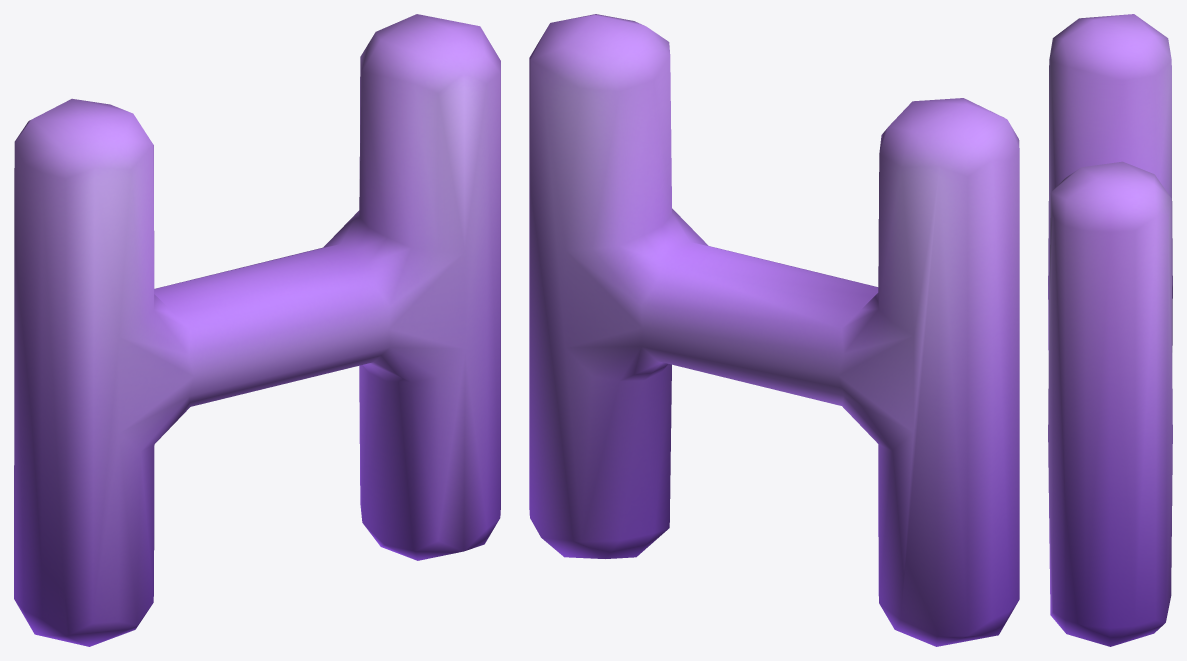
3 renders of one model, left to right at view 1: azimuth 30°, elevation 25°; view 2: azimuth 150°, elevation 25°; view 3: azimuth 270°, elevation 25°, orthographic. The views are drawn at different scales.
Parts seen in each view (by area): view 1: Processed_Mesh0_Geometry; view 2: Processed_Mesh0_Geometry; view 3: Processed_Mesh0_Geometry.
Boxes of the visible parts, x1,y1,x2,y2 form: Processed_Mesh0_Geometry: [14, 14, 500, 646]; Processed_Mesh0_Geometry: [529, 14, 1019, 646]; Processed_Mesh0_Geometry: [1048, 14, 1172, 646].
Size of what is drawn, in the model's own units: 0.0774 by 0.0827 by 0.0202.
Materials: 1 (1 with a texture image).
